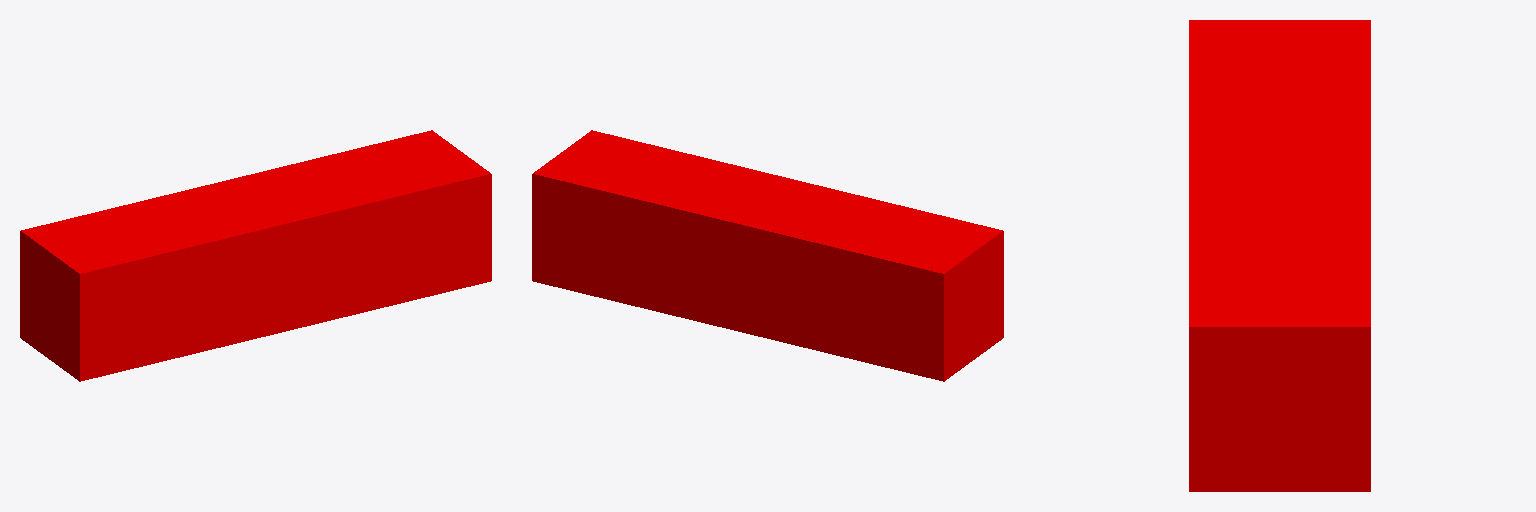
URDF robot description (wall6):
<?xml version="1.0"?>
<robot name="wall6">
	<link name="base">
	<inertial>
        	 <origin xyz="0 0 0" rpy="0 0 0"/>
        	 <mass value="3"/>
        	 <inertia ixx="0.000683333"  ixy="0"  ixz="0" iyy="0.000683333" iyz="0" izz="0.000683333" />
       </inertial>
		<visual>
			<origin xyz="0 0 0" rpy="0 0 0" />
			<geometry>
				<box size="0.08 0.02 0.02" />
			</geometry>
			<material>
				<color rgba="1 0 0 1" />
			</material>
		</visual>
		<collision>
			<origin xyz="0 0 0" rpy="0 0 0" />
			<material>
				<color rgba="1 0 0 1" />
			</material>
			<geometry>
				<box size="0.08 0.02 0.02" />
			</geometry>
			
		</collision>

	</link>
</robot>

--- Render facts (derived) ---
Views: 3 orthographic renders of the robot side by side, from view 1: azimuth 30°, elevation 25°; view 2: azimuth 150°, elevation 25°; view 3: azimuth 270°, elevation 25°.
Model wall6 with 1 links and 0 joints (none), rooted at base, posed all joints at 0.
Visible links, largest first — view 1: base; view 2: base; view 3: base.
Boxes of the visible links, x1,y1,x2,y2 form: base: (20,130,491,381); base: (532,130,1003,381); base: (1189,20,1370,491).
Bounding box of the posed robot: 0.08 × 0.02 × 0.02 m (x, y, z).
Geometry: primitives only (box / cylinder / sphere), no mesh files.
